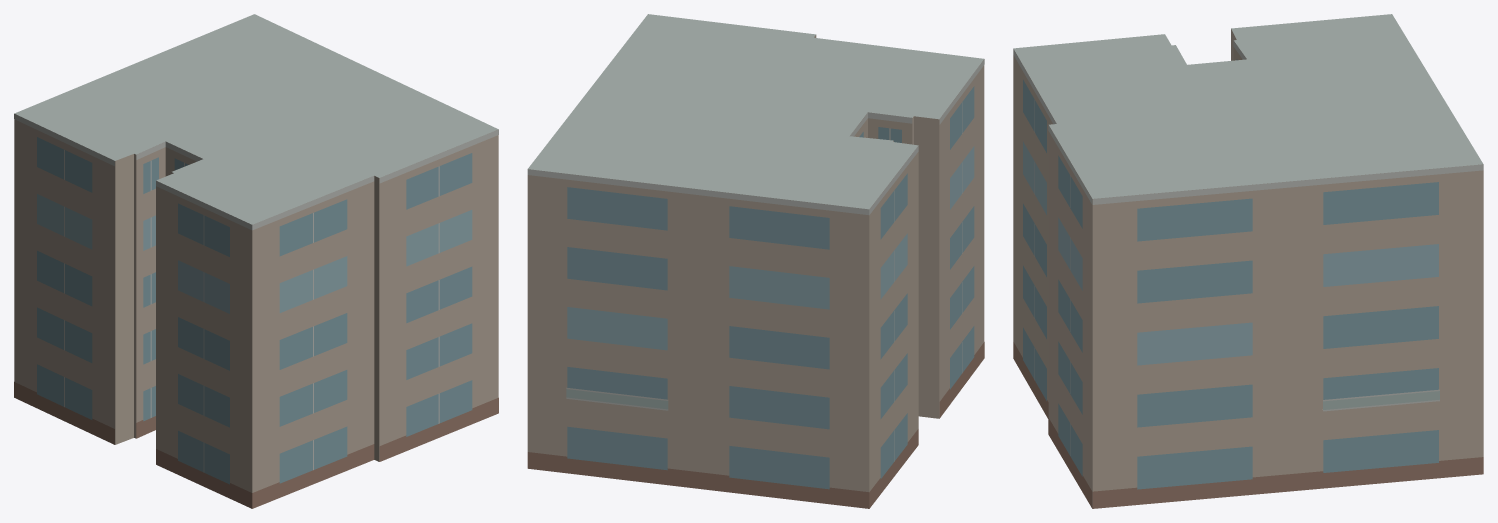
The model's file is survey-upis-32778903.glb.
3 views of the same model, side by side, from view 1: azimuth 30°, elevation 25°; view 2: azimuth 150°, elevation 25°; view 3: azimuth 270°, elevation 25° (orthographic). The views are drawn at different scales.
Visible parts, largest first — view 1: survey-upis-32778903.tmp; view 2: survey-upis-32778903.tmp; view 3: survey-upis-32778903.tmp.
Boxes of the visible parts, box(x1,y1,x2,y2) form: survey-upis-32778903.tmp: box(14, 14, 498, 508); survey-upis-32778903.tmp: box(527, 14, 984, 508); survey-upis-32778903.tmp: box(1013, 14, 1483, 508).
Bounding box in the file's own units: 15.87 × 12.4 × 17.06.
